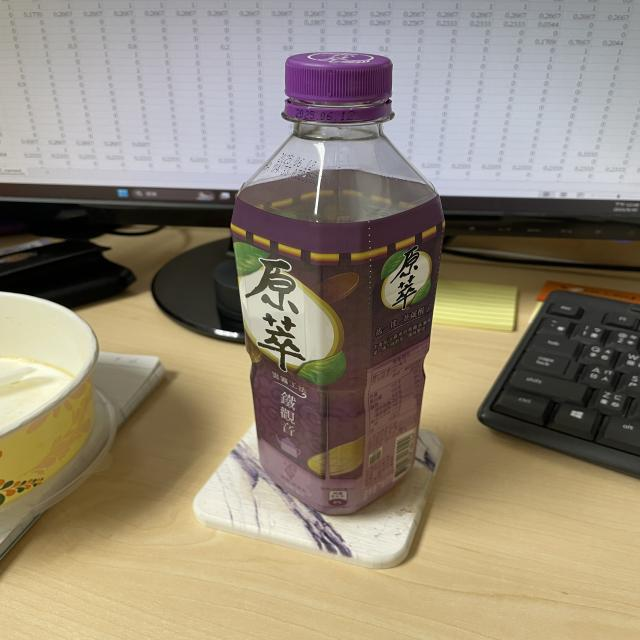YuanTsui_TieGuanYing: (226, 48, 451, 524)
